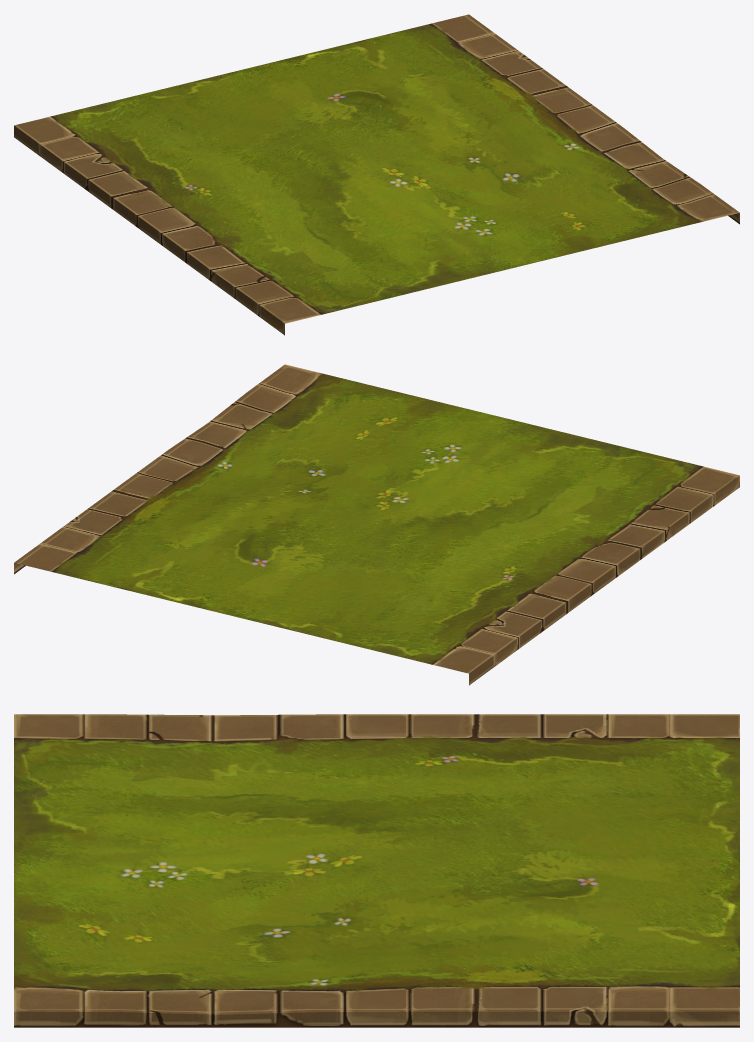
File: CourtyardGrass.fbx
3 renders of one model, top to bottom at view 1: azimuth 30°, elevation 25°; view 2: azimuth 150°, elevation 25°; view 3: azimuth 270°, elevation 25°, orthographic. The views are drawn at different scales.
Parts seen in each view (by area): view 1: courtyardGrass_1; view 2: courtyardGrass_1; view 3: courtyardGrass_1.
Boxes of the visible parts, x1,y1,x2,y2 form: courtyardGrass_1: (14,14,739,335); courtyardGrass_1: (14,364,739,685); courtyardGrass_1: (14,714,739,1027).
Size of the model in its own units: 88.27 by 4 by 91.05.
1 material, 1 textured.
